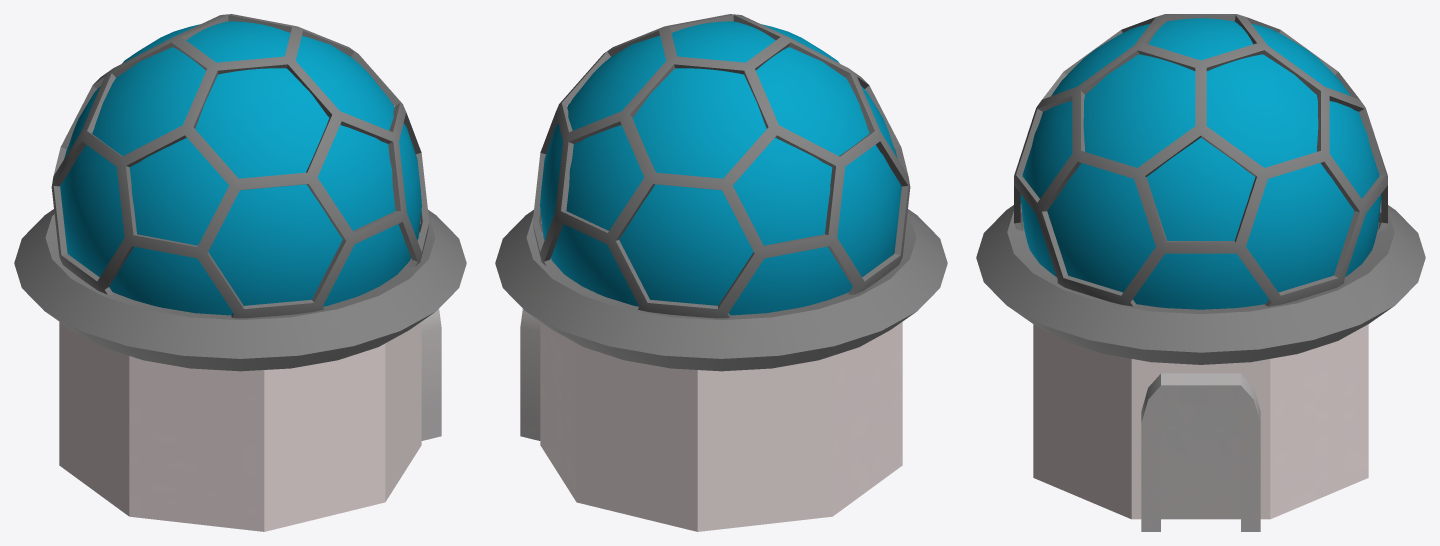
The model's file is casa 7.fbx.
The picture shows the model from 3 angles, left to right: view 1: azimuth 30°, elevation 25°; view 2: azimuth 150°, elevation 25°; view 3: azimuth 270°, elevation 25°; orthographic projection.
Parts seen in each view (by area): view 1: Sphere.004, Sphere.011, Sphere.009; view 2: Sphere.004, Sphere.011, Sphere.009; view 3: Sphere.004, Sphere.011, Sphere.006, Sphere.009.
Part boxes in pixels (x1=…): Sphere.004: x1=14, y1=14, x2=466, y2=371; Sphere.011: x1=59, y1=322, x2=421, y2=531; Sphere.009: x1=421, y1=309, x2=441, y2=440; Sphere.004: x1=495, y1=14, x2=947, y2=371; Sphere.011: x1=540, y1=322, x2=902, y2=531; Sphere.009: x1=520, y1=308, x2=540, y2=440; Sphere.004: x1=976, y1=14, x2=1425, y2=364; Sphere.011: x1=1033, y1=324, x2=1368, y2=519; Sphere.006: x1=1161, y1=406, x2=1240, y2=519; Sphere.009: x1=1141, y1=373, x2=1260, y2=531.
Size of the model in its own units: 1049 by 1074 by 1049.
1 material, 1 textured.
